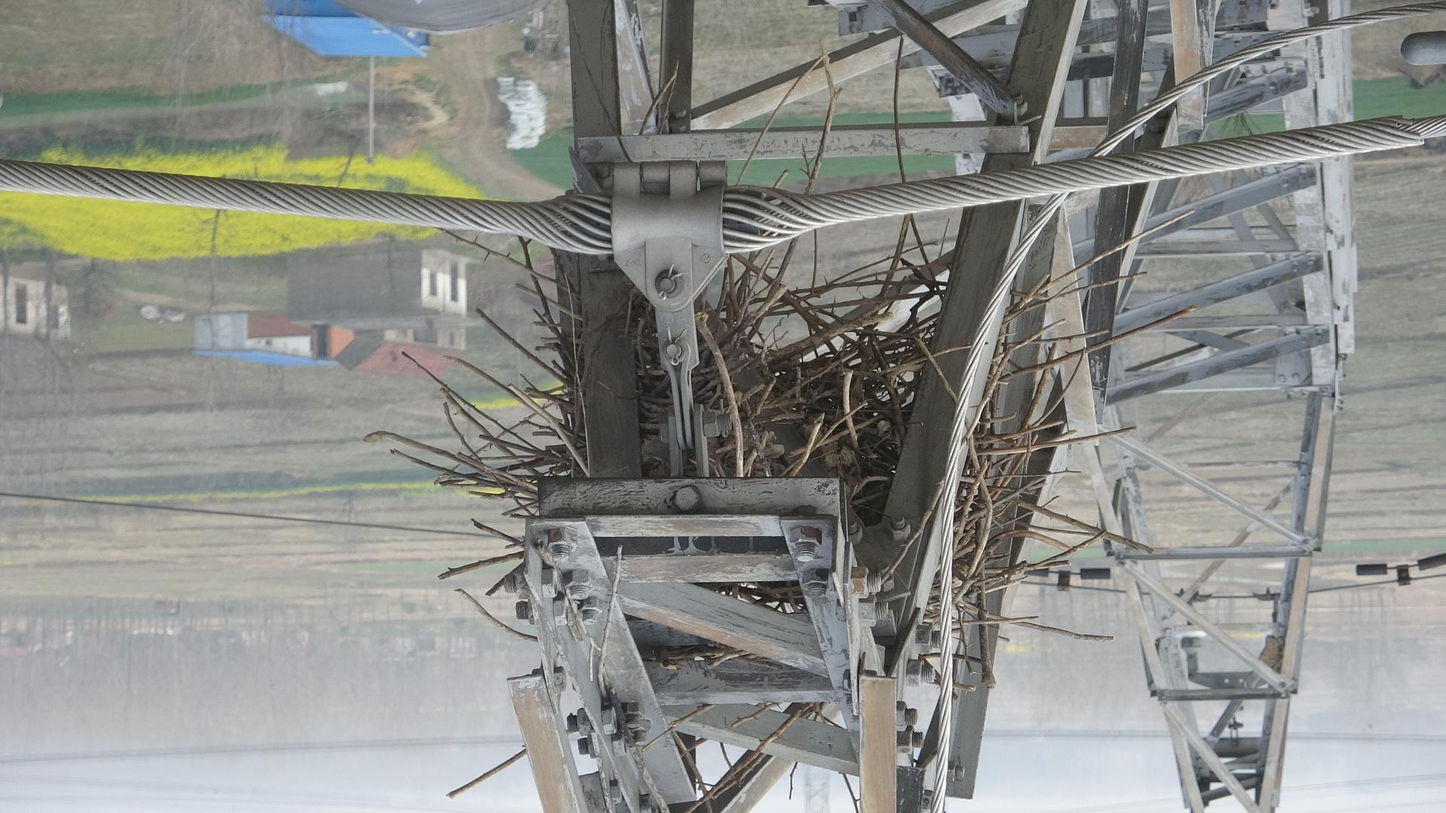damper: (1352, 550, 1446, 590), (1017, 562, 1112, 597)
nest: (422, 256, 1055, 650)
